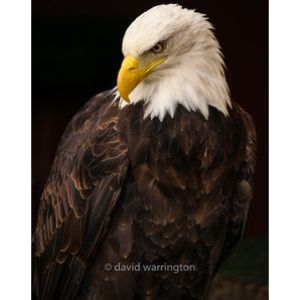eagle: (32, 5, 257, 297)
